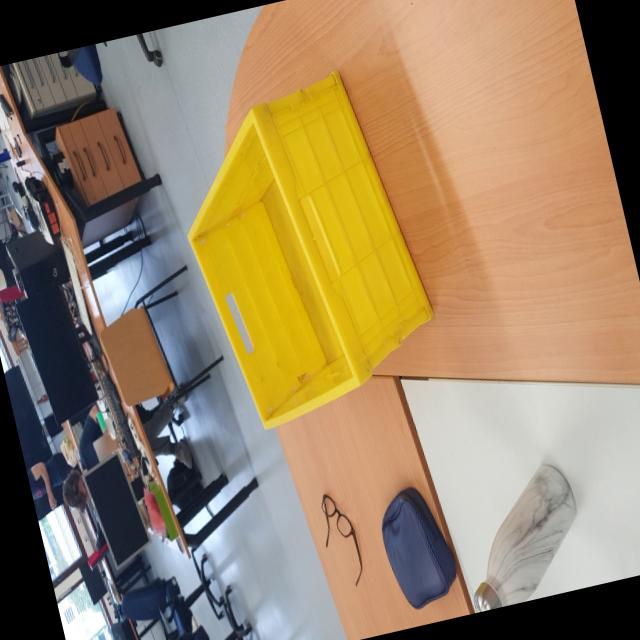box: (144, 31, 458, 453)
